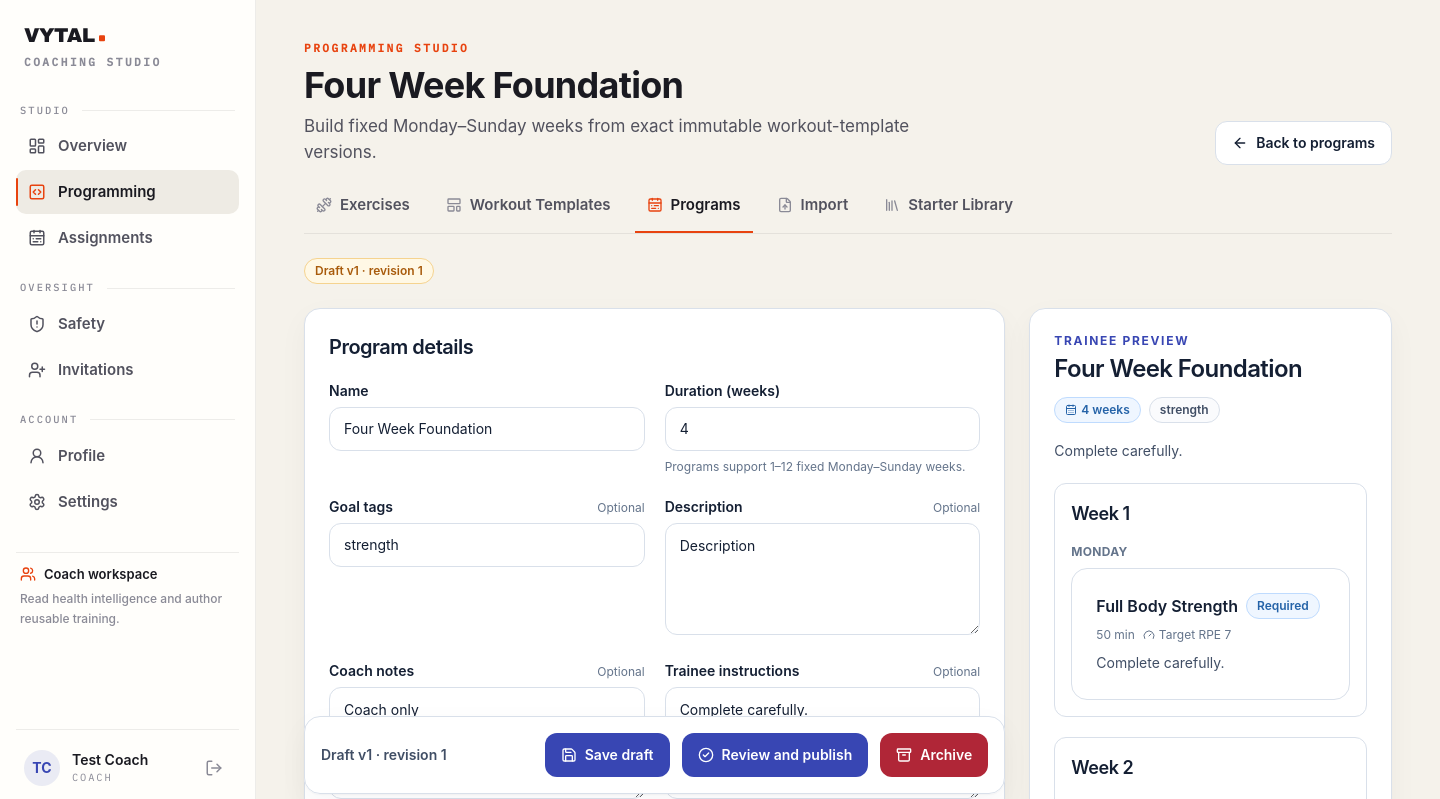
Test case: Program builder › preserves local edits after an optimistic concurrency conflict
Replace the text in the field labelled "Name" with "Unsaved local program": (487, 429) x1=329 y1=407 x2=645 y2=451
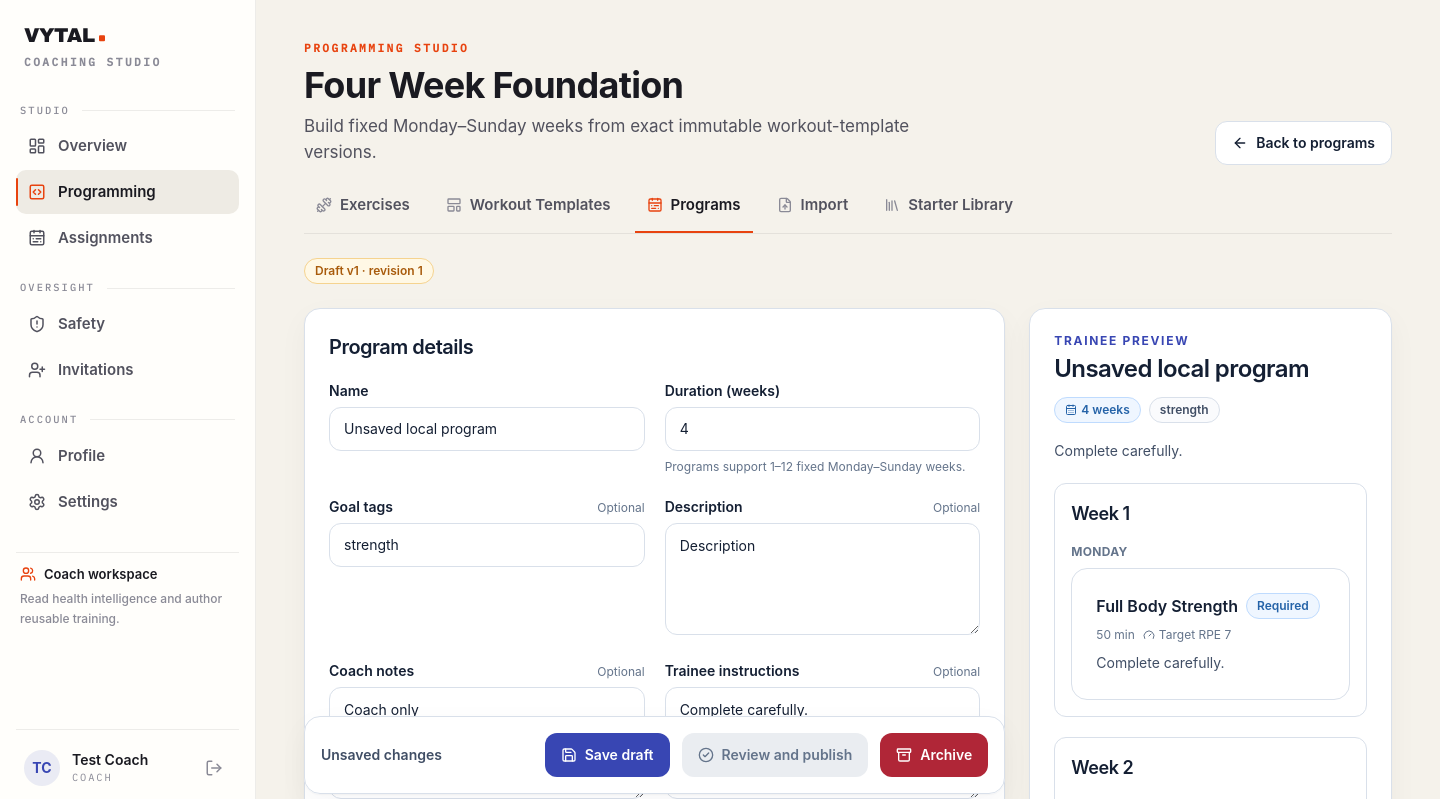
Click the button "Save draft": click(607, 755) x1=545 y1=733 x2=670 y2=777
(page scrolled)
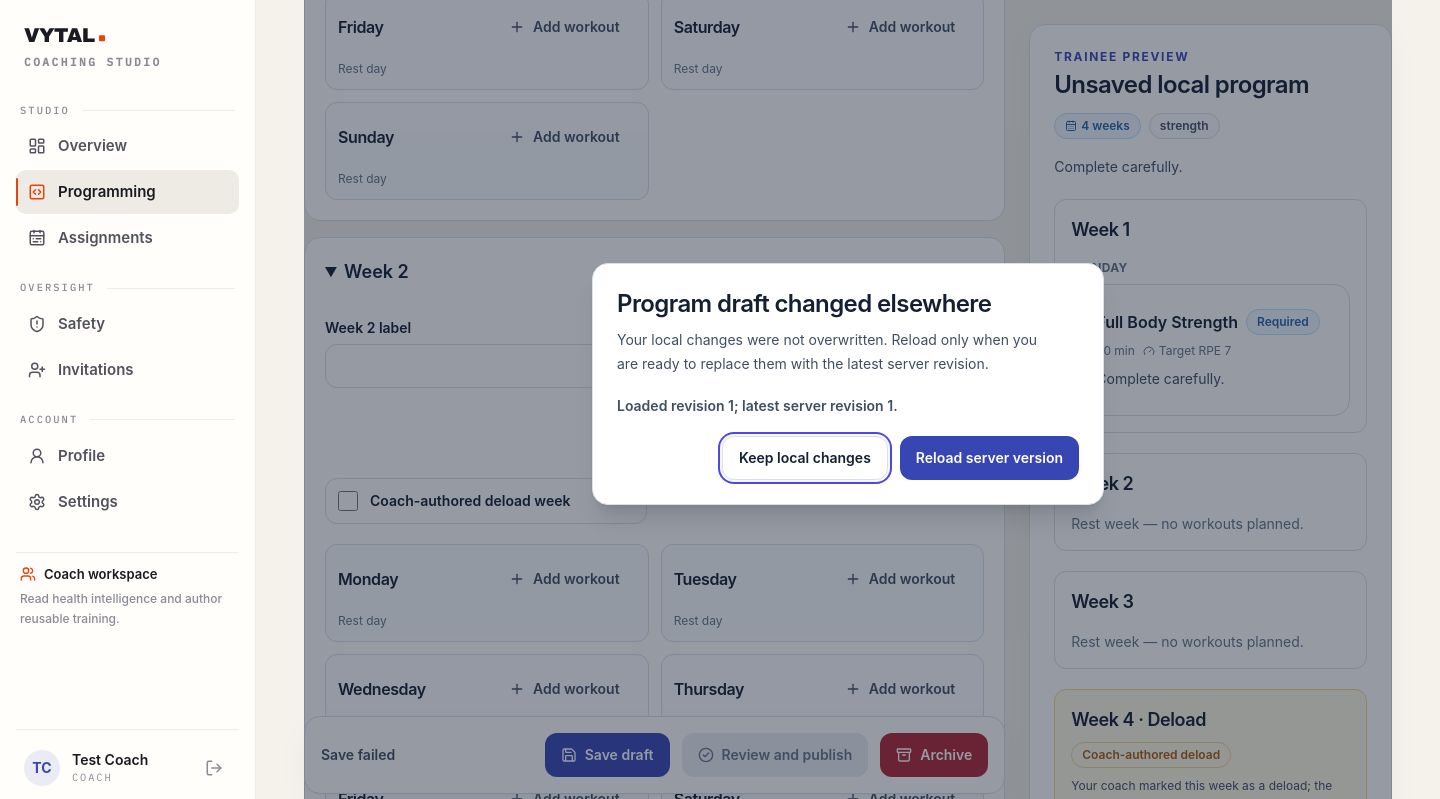
Check: the dialog "Program draft changed elsewhere" is shown, box x1=592 y1=263 x2=1104 y2=505
Check: the text "were not overwritten" is shown, box x1=617 y1=331 x2=1037 y2=372
Check: the text "Loaded revision 1; latest server revision 1." is shown, box x1=617 y1=397 x2=898 y2=414
